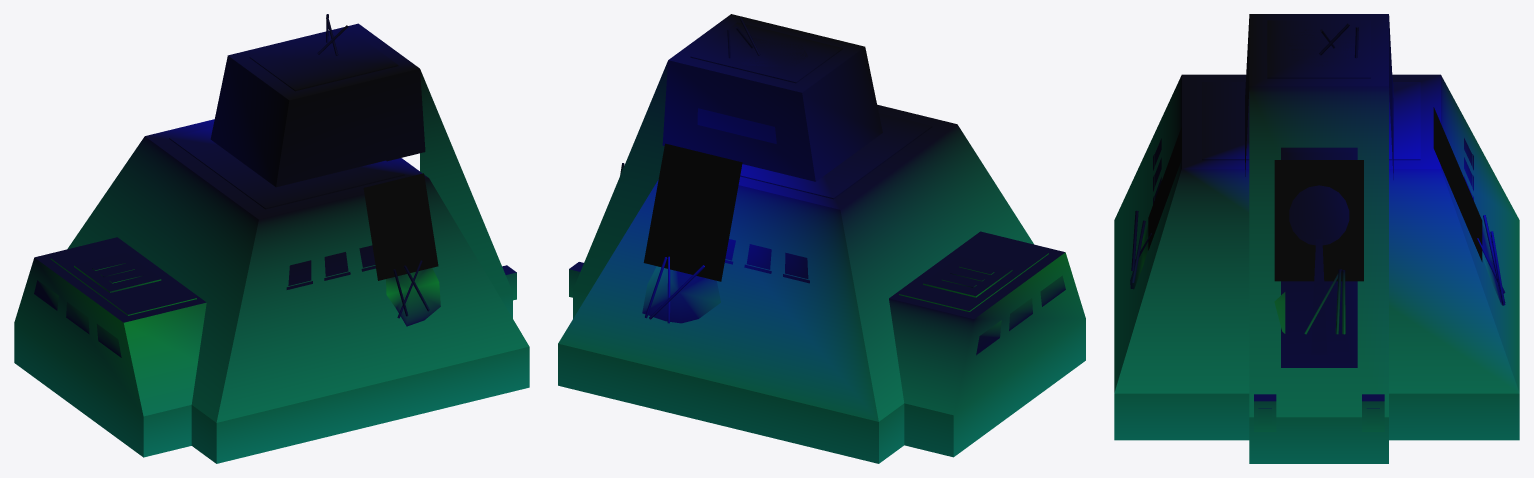
Rendered from hpg_office_damaged.glb.
3 views of the same model, side by side, from view 1: azimuth 30°, elevation 25°; view 2: azimuth 150°, elevation 25°; view 3: azimuth 270°, elevation 25° (orthographic). The views are drawn at different scales.
Parts seen in each view (by area): view 1: lod0; view 2: lod0; view 3: lod0.
Part boxes in pixels (x1,y1,x2,y2): lod0: (14, 14, 529, 463); lod0: (558, 14, 1085, 463); lod0: (1114, 14, 1519, 463).
Size of what is drawn, in the model's own units: 23.96 by 17.73 by 18.
